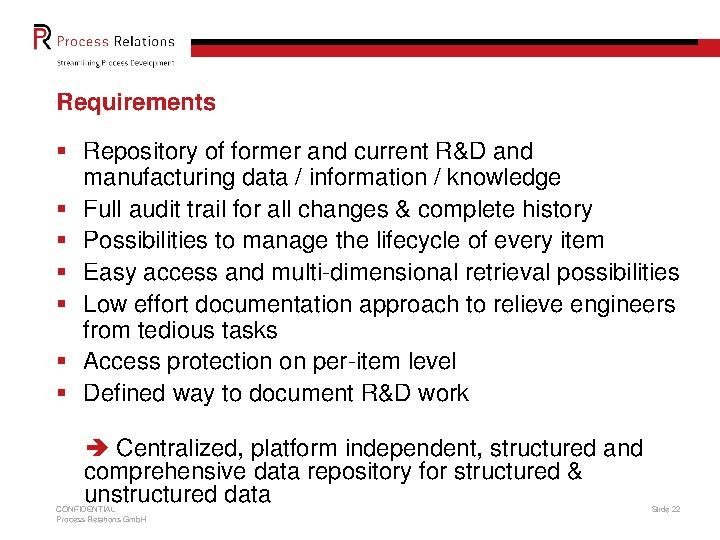paragraph: (40, 122, 707, 529)
subtitle: (55, 74, 224, 125)
title: (17, 22, 197, 61)
